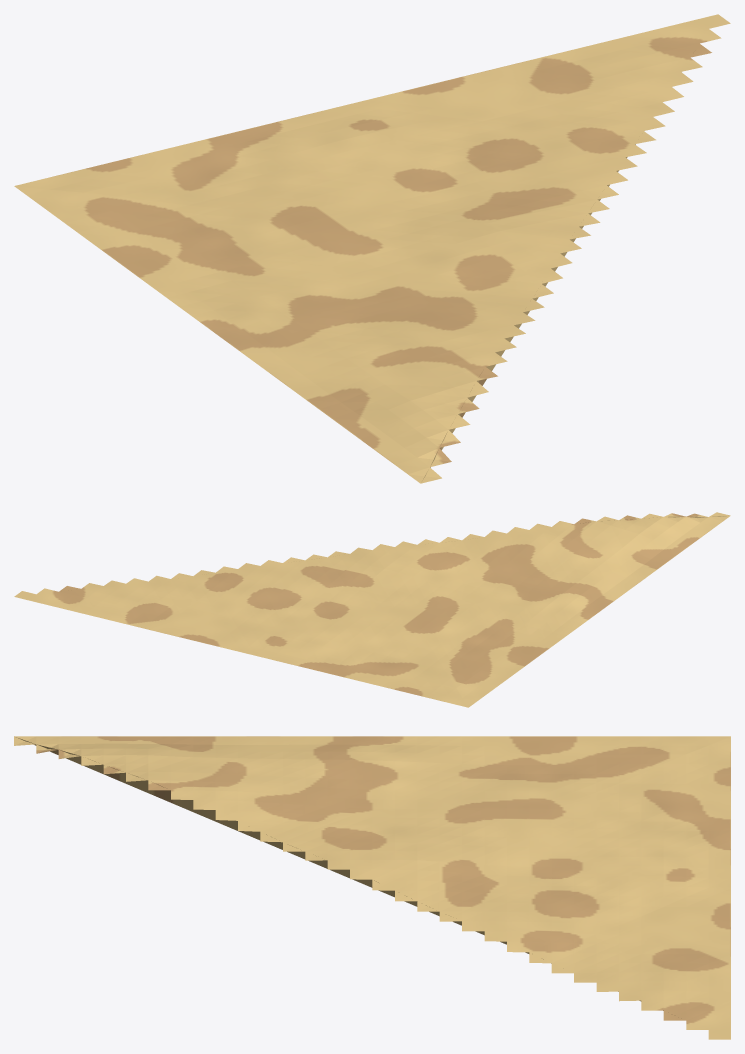
The model's file is Desert_Flat_11_SW.obj.
The picture shows the model from 3 angles, top to bottom: view 1: azimuth 30°, elevation 25°; view 2: azimuth 150°, elevation 25°; view 3: azimuth 270°, elevation 25°; orthographic projection. The views are drawn at different scales.
Size of the model in its own units: 10 by 0.2002 by 10.
1 material, 1 textured.
